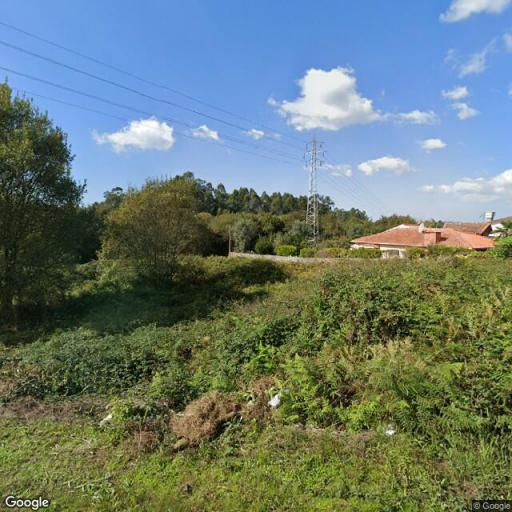ss_3: (302, 133, 328, 244)
